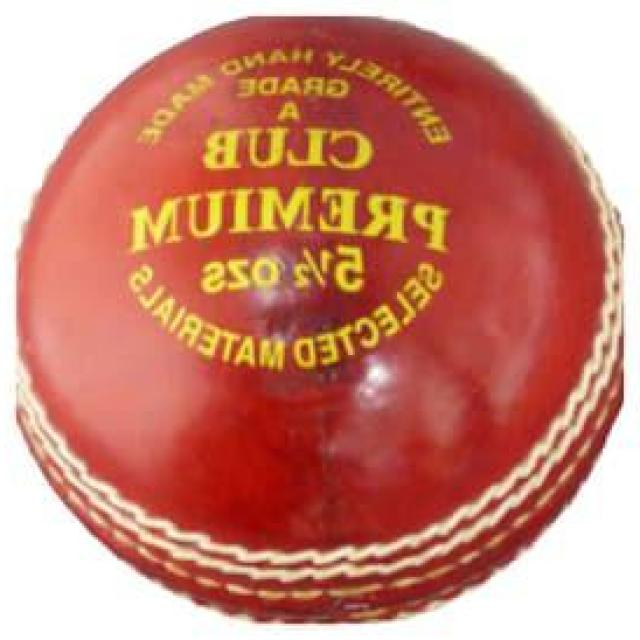ball: (14, 16, 624, 622)
